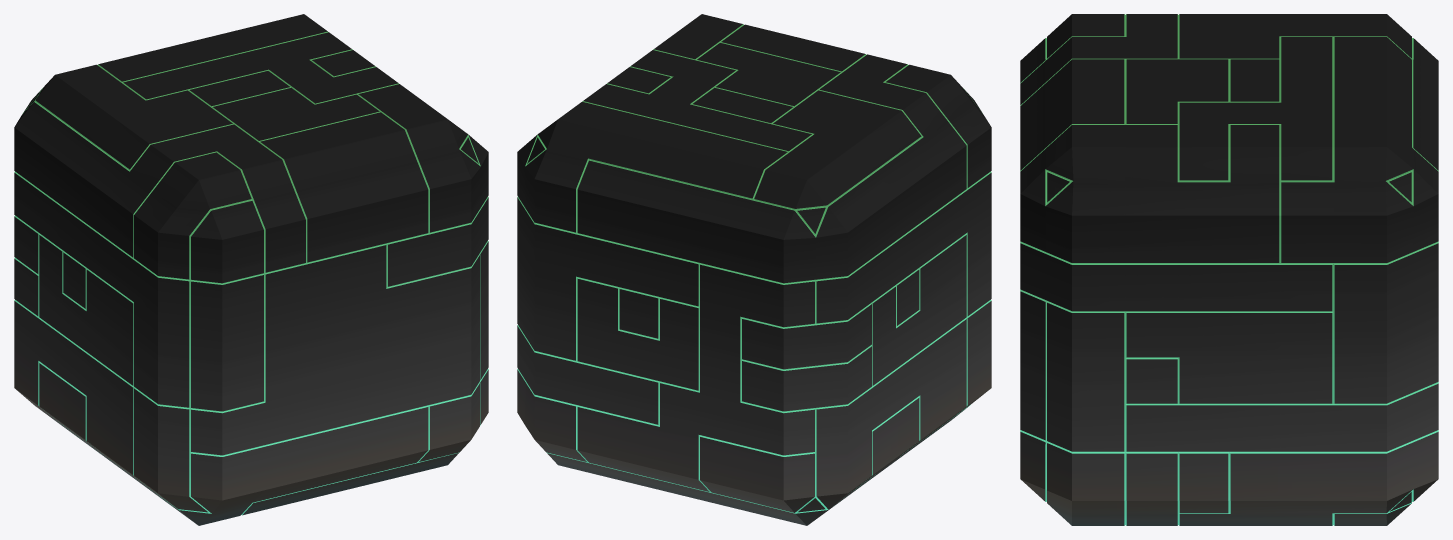
File: CyberPunkCubeShapeE.002.glb
3 views of the same model, side by side, from view 1: azimuth 30°, elevation 25°; view 2: azimuth 150°, elevation 25°; view 3: azimuth 270°, elevation 25° (orthographic). The views are drawn at different scales.
Visible parts, largest first — view 1: CyberPunkCubeShapeE.002; view 2: CyberPunkCubeShapeE.002; view 3: CyberPunkCubeShapeE.002.
Boxes of the visible parts, x1,y1,x2,y2 form: CyberPunkCubeShapeE.002: (14, 14, 488, 525); CyberPunkCubeShapeE.002: (517, 14, 991, 525); CyberPunkCubeShapeE.002: (1020, 14, 1438, 525).
Size of what is drawn, in the model's own units: 0.7816 by 0.7816 by 0.7816.
Materials: 2 (2 with a texture image).
